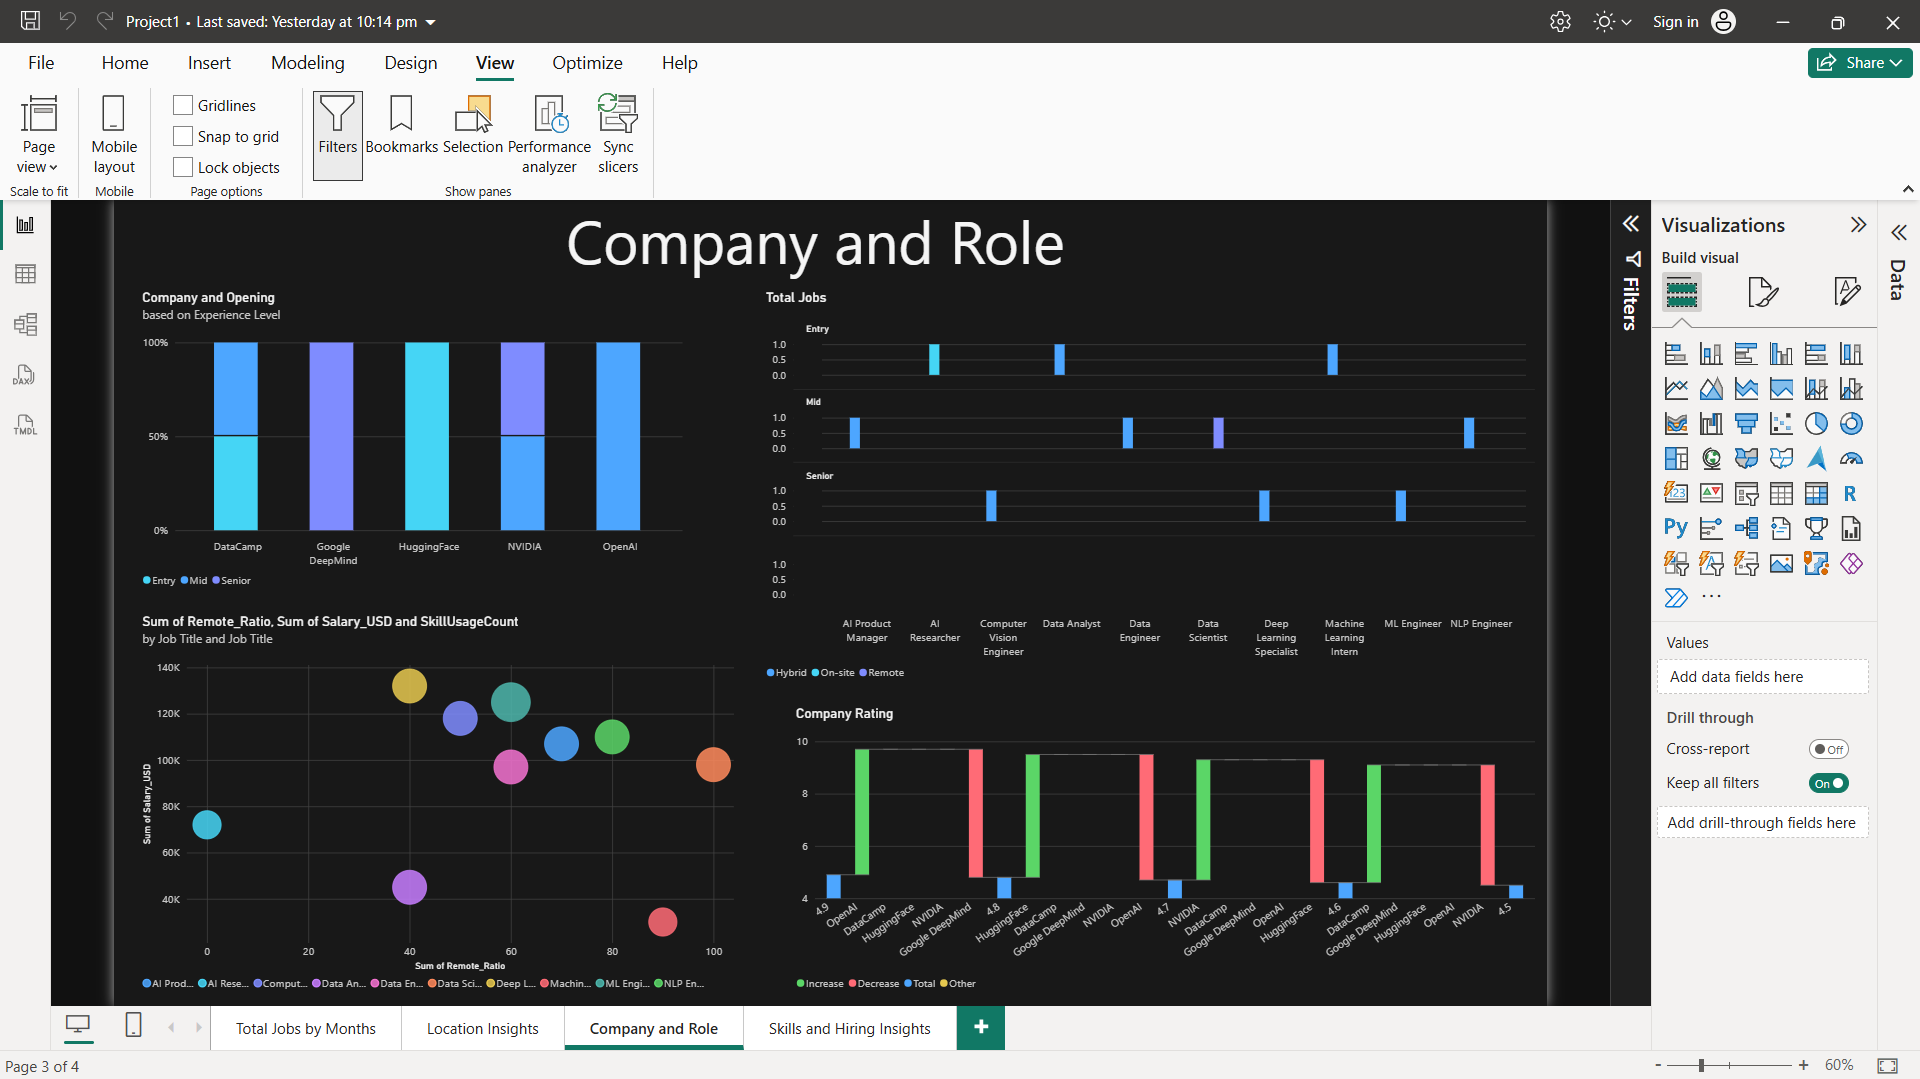

Layout of this report page (visuals, bound fields, positions):
{"tool":"powerbi","page":{"name":"Company and Role","canvas":[1920,1080],"ordinal":2},"visuals":[{"type":"textbox","box":[575.6,0,727.3,136],"z":1000},{"type":"waterfallChart","title":"Company Rating","fields":{"Breakdown":["Dim_Companies.Company_Name"],"Category":["Dim_Companies.Rating"],"Y":["Dim_Companies.CompanyAvgRating"]},"box":[898,664,1022,416],"z":3000},{"type":"scatterChart","fields":{"Category":["Fact_Jobs.Job_Title"],"Series":["Fact_Jobs.Job_Title"],"Size":["Dim_Skills.SkillUsageCount"],"X":["Sum(Fact_Jobs.Remote_Ratio)"],"Y":["Sum(Fact_Jobs.Salary_USD)"]},"box":[22,540,836,540],"z":4000},{"type":"clusteredColumnChart","title":"Total Jobs","fields":{"Category":["Fact_Jobs.Job_Title"],"Rows":["Fact_Jobs.Experience_Level"],"Series":["Fact_Jobs.IsRemote"],"Y":["Fact_Jobs.TotalJobs"]},"box":[858,106,1062,558],"z":4001},{"type":"hundredPercentStackedColumnChart","title":"Company and Opening","fields":{"Category":["Dim_Companies.Company_Name"],"Series":["Fact_Jobs.Experience_Level"],"Y":["Dim_Companies.JobsPerCompany"]},"box":[22,106,756,434],"z":4002}]}

Visuals, with their boxes on the page's 1920x1080 design canvas (x1, y1, x2, y2). These are canvas units, not pixel positions in the 1920x1079 screenshot, which may show the page scaled, cropped or inside an application window:
textbox: x1=576, y1=0, x2=1303, y2=136
"Company Rating" waterfallChart: x1=898, y1=664, x2=1920, y2=1080
scatterChart - Fact_Jobs.Job_Title x Fact_Jobs.Job_Title: x1=22, y1=540, x2=858, y2=1080
"Total Jobs" clusteredColumnChart: x1=858, y1=106, x2=1920, y2=664
"Company and Opening" hundredPercentStackedColumnChart: x1=22, y1=106, x2=778, y2=540
